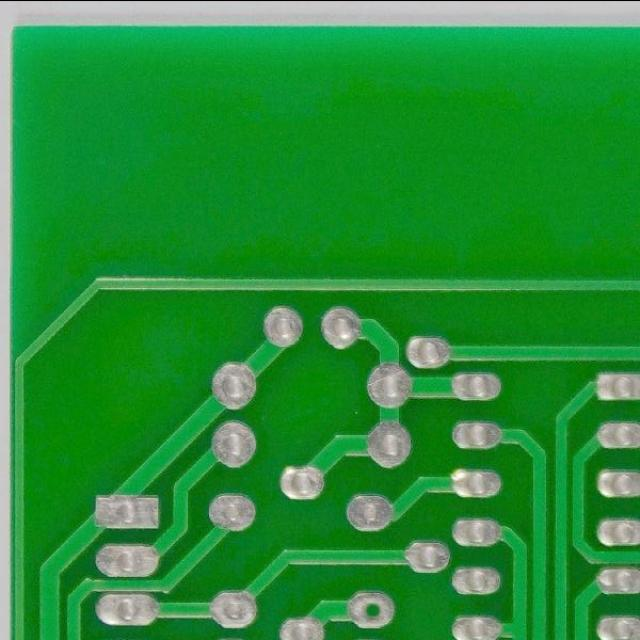missing_hole: (350, 586, 395, 632)
